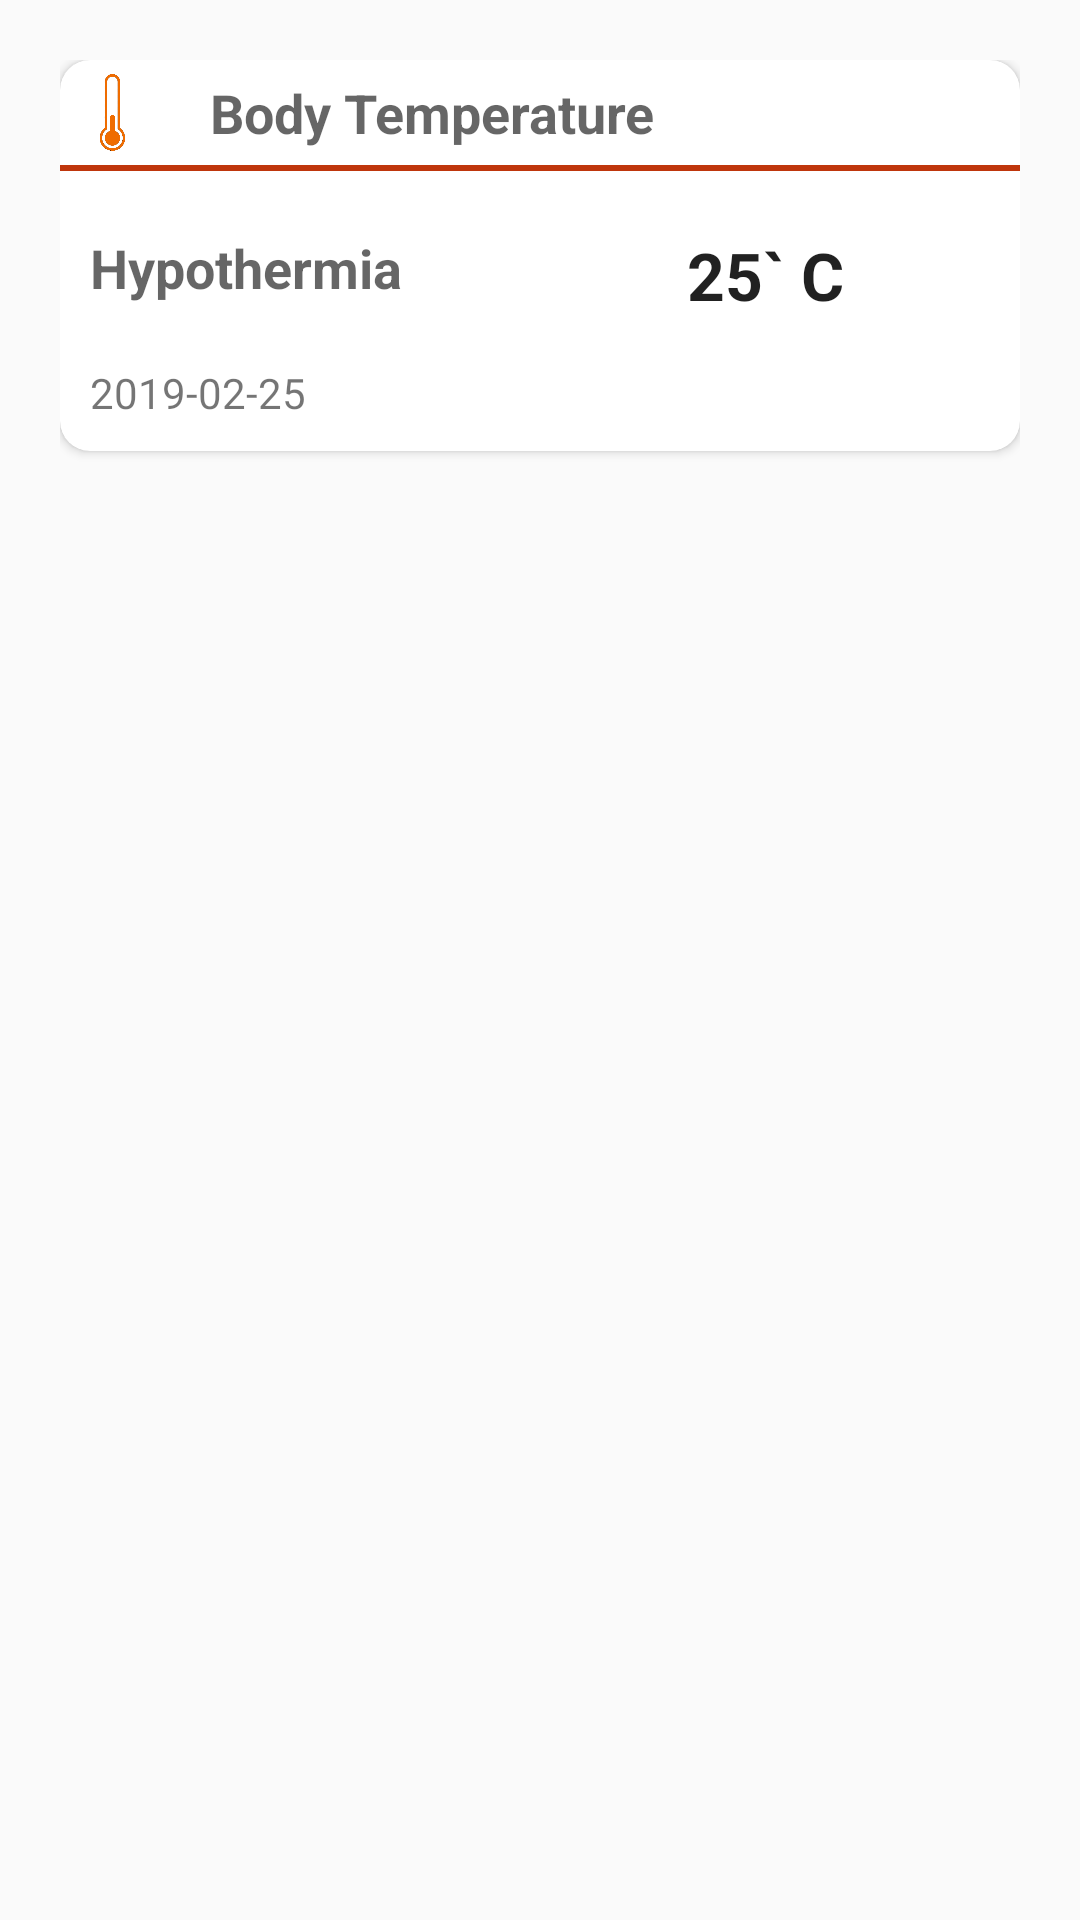

Named icons in this screenshot (1080px×1920px) and their bounding boxes, detection(x1, y1, x2, y2):
tempsym: detection(60, 60, 125, 151)
